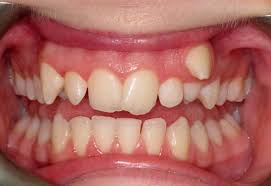normal: (124, 70, 157, 116), (167, 114, 190, 160), (39, 62, 63, 106), (111, 116, 140, 152), (142, 118, 167, 159), (91, 114, 115, 155), (61, 72, 87, 107), (68, 115, 90, 155), (51, 114, 70, 155), (161, 79, 182, 109), (190, 120, 208, 154), (204, 118, 222, 146), (218, 114, 238, 139), (201, 80, 218, 109), (183, 79, 199, 106), (37, 117, 49, 150), (31, 72, 43, 103), (15, 112, 27, 143), (228, 77, 241, 105), (226, 112, 242, 133), (27, 116, 38, 145), (216, 81, 226, 107), (15, 73, 25, 98), (25, 79, 35, 100), (244, 71, 252, 96)
rough: (185, 45, 213, 80)
yellow: (88, 68, 122, 112)
